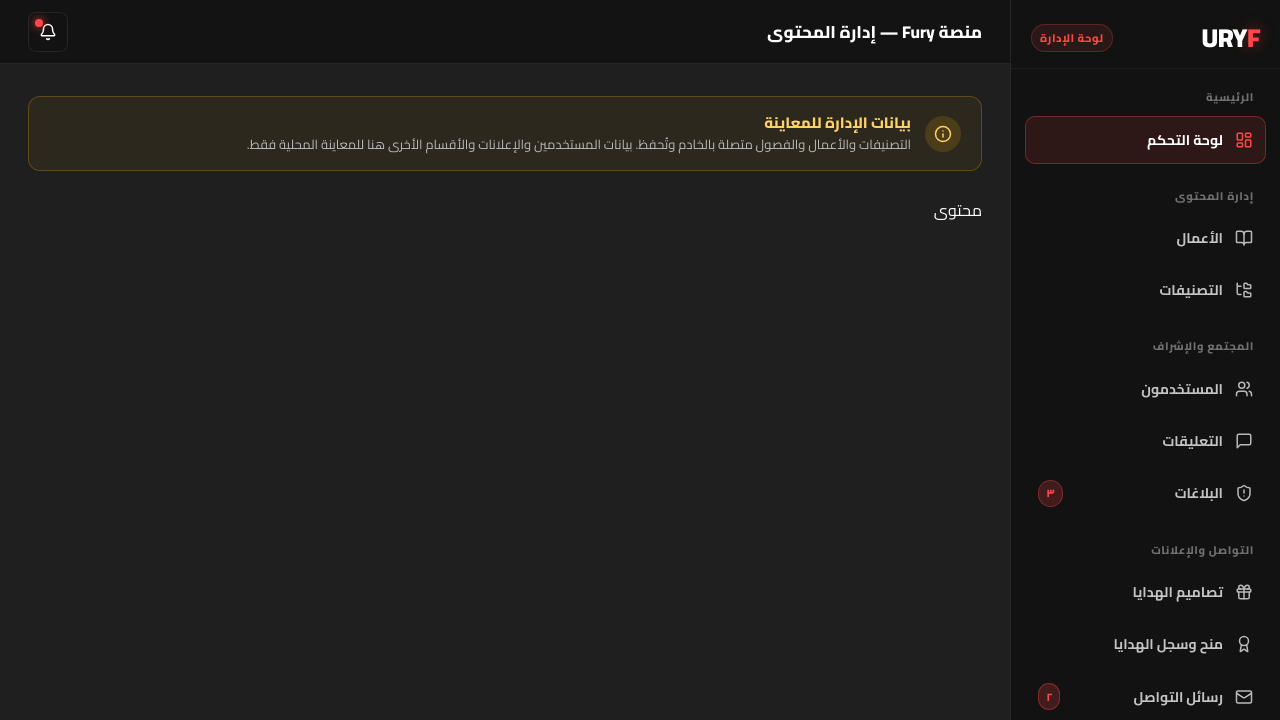
Test: AdminLayout Component › opens and closes notifications popover on toggle and Escape
Click to open popover
Click the button named "الإشعارات الإدارية" at [48, 32], box [28,12,68,52]
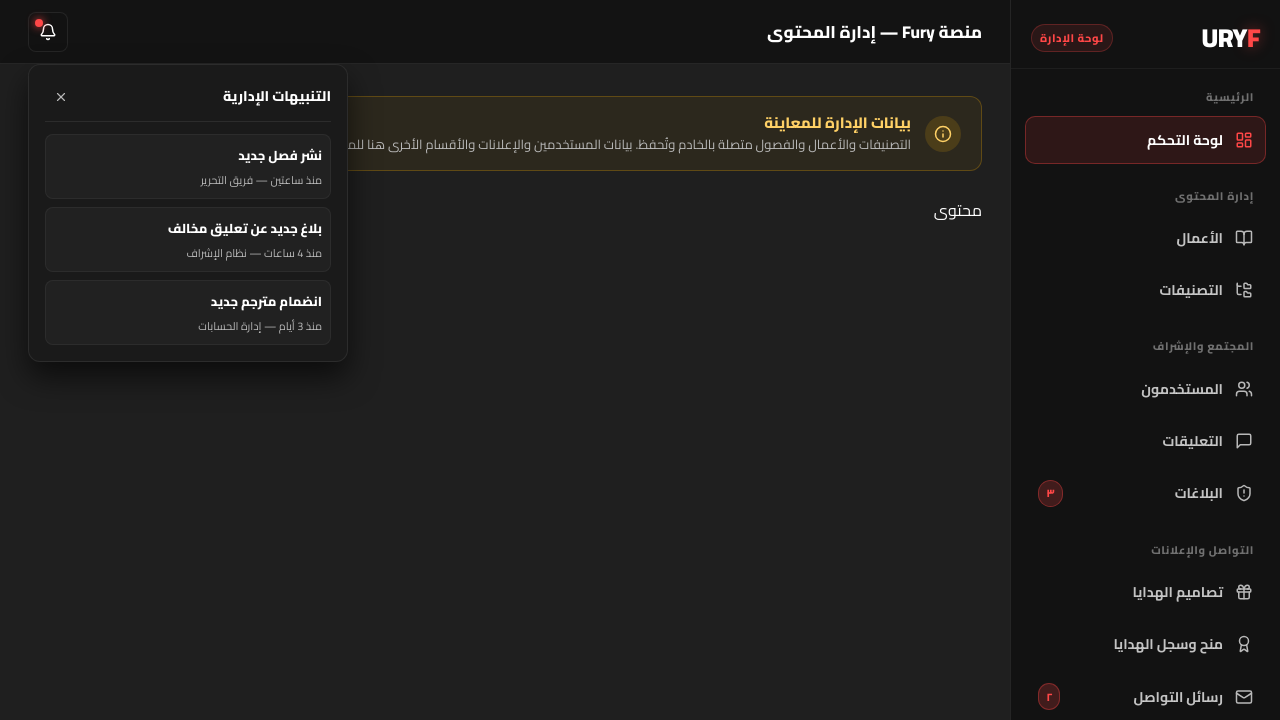
Now the heading "التنبيهات الإدارية" is shown, box [223,86,331,107]
Escape closes popover
Press Escape
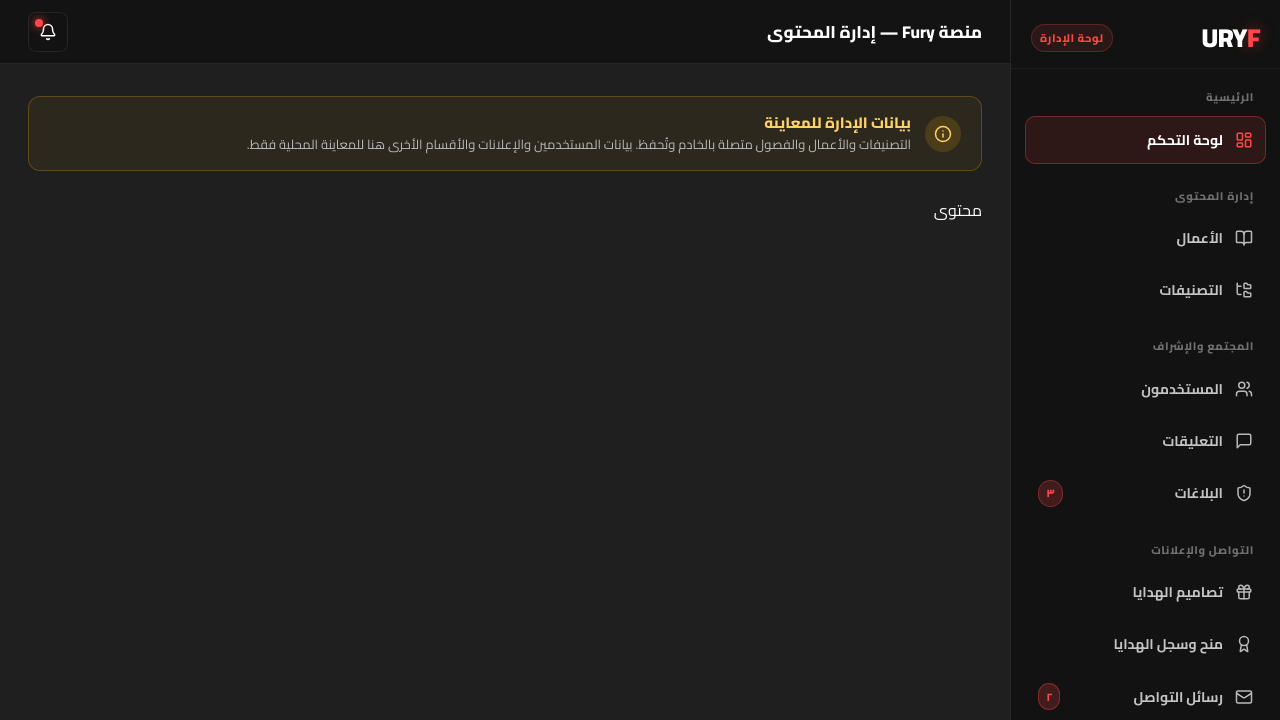
Now the heading "التنبيهات الإدارية" is gone
